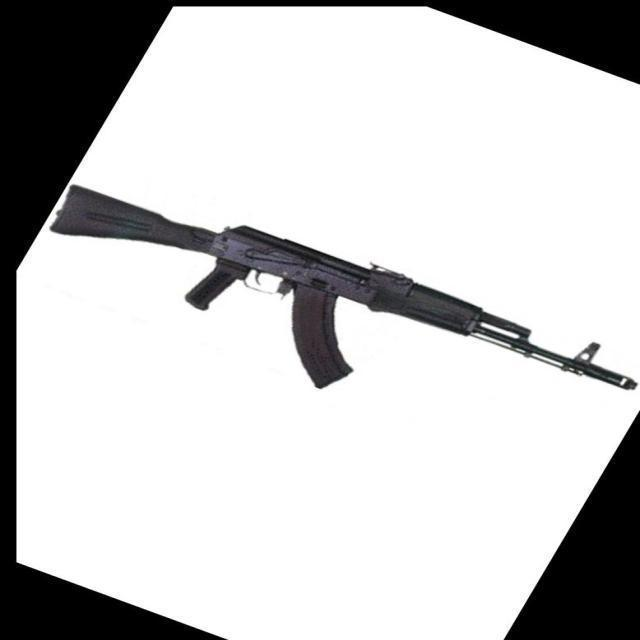Rifle: (45, 185, 640, 393)
